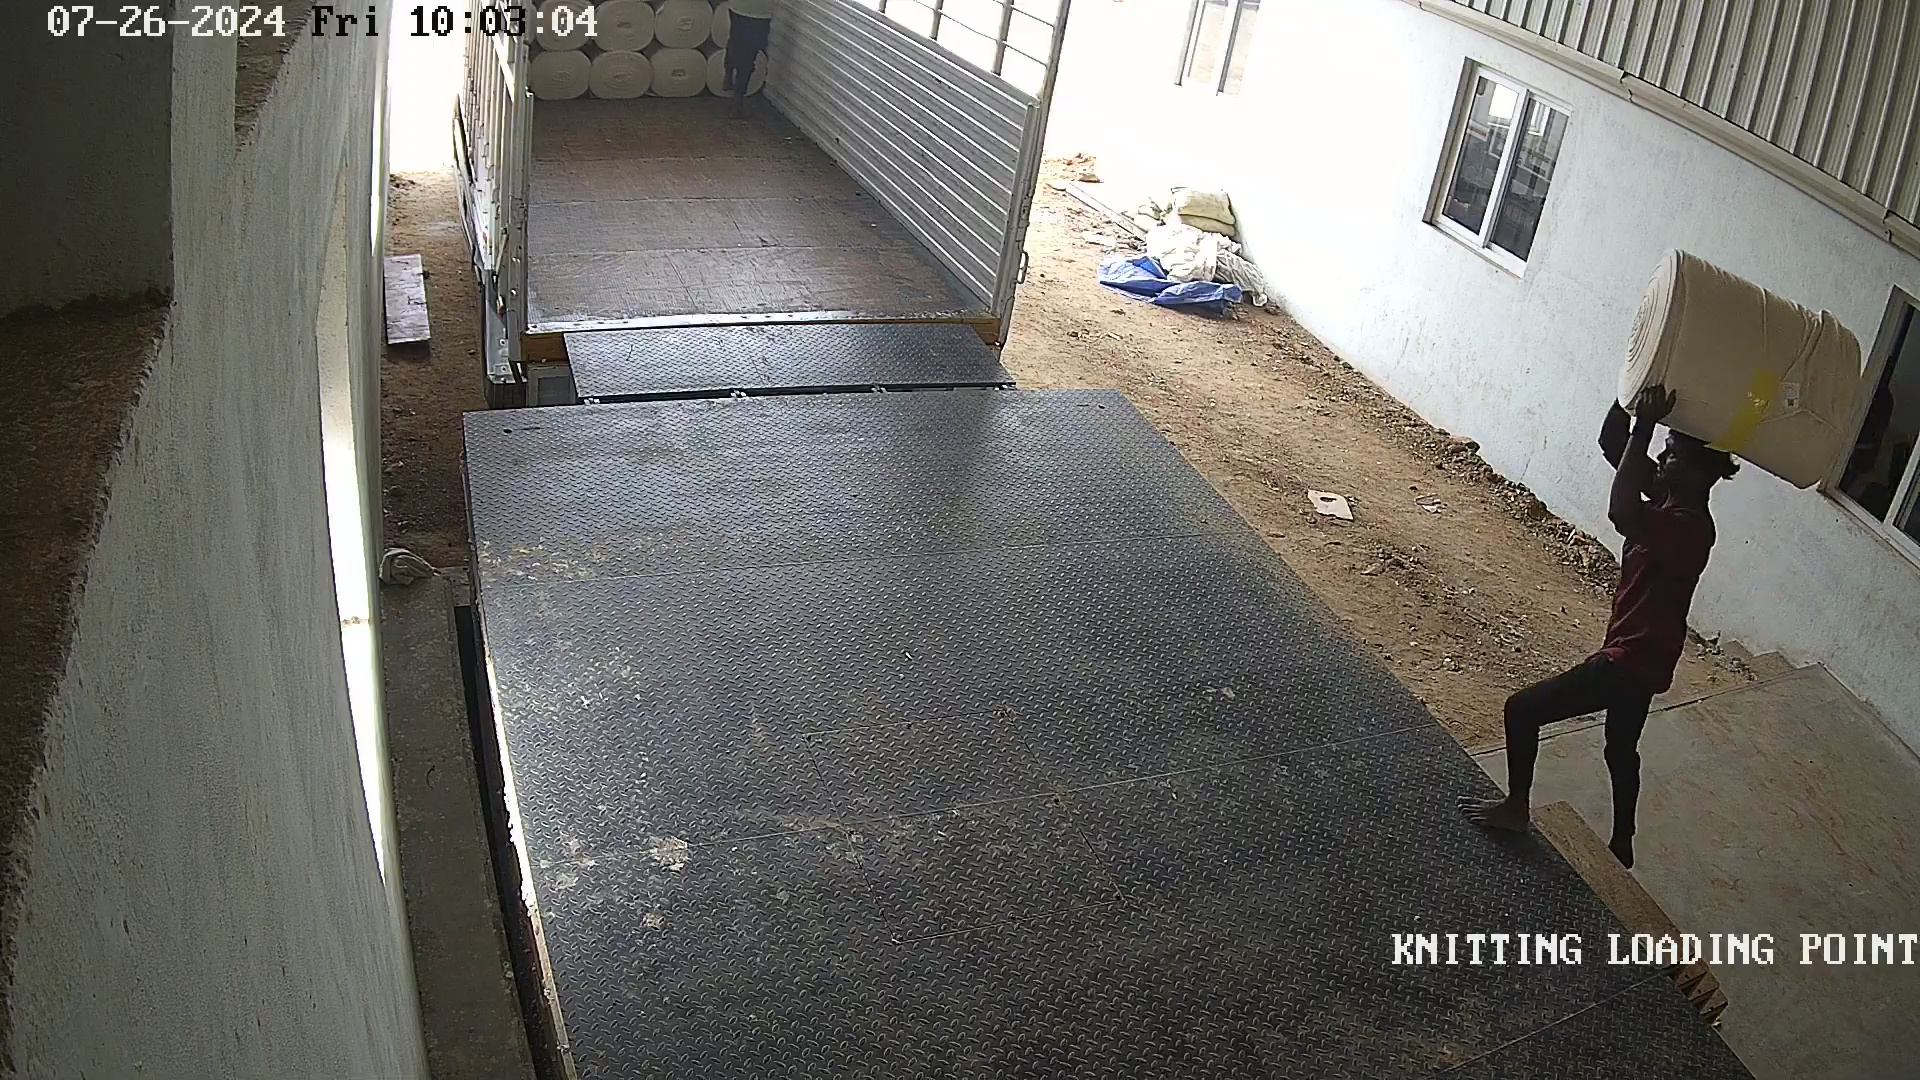bag: (1611, 237, 1869, 491)
